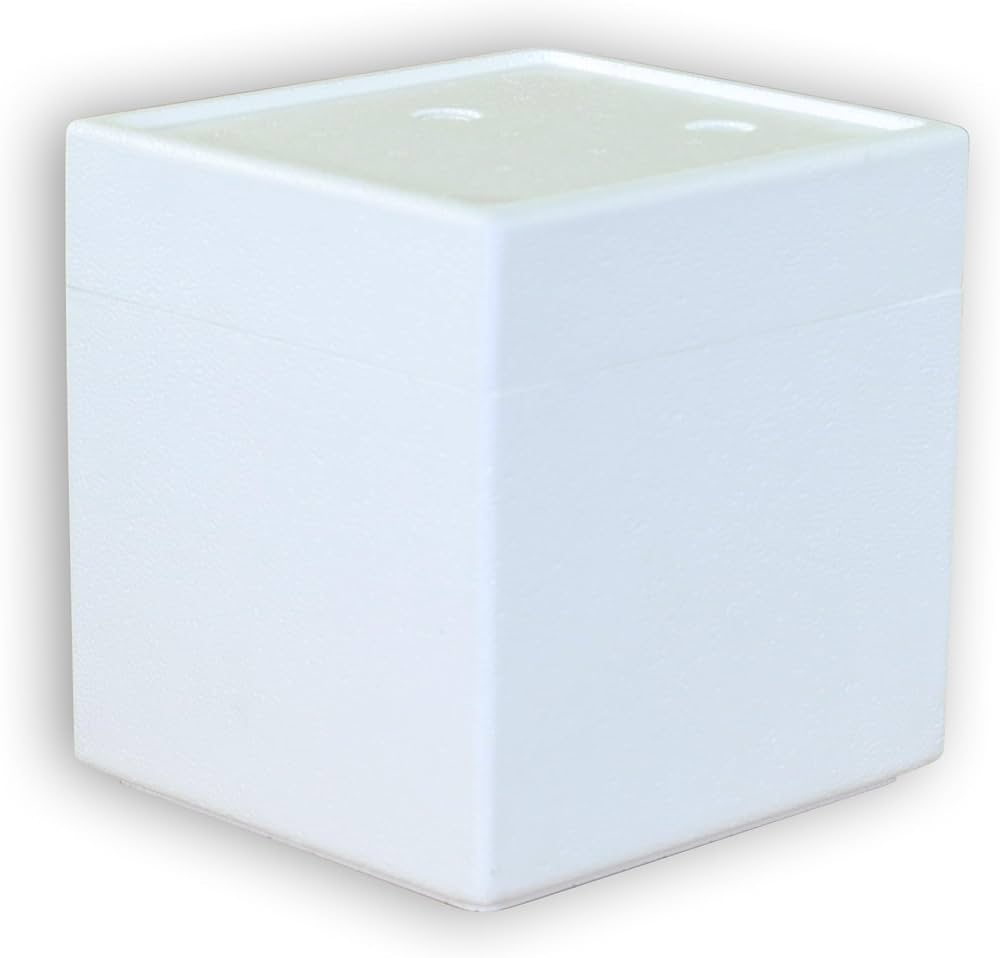Boxes: (66, 53, 966, 903)
